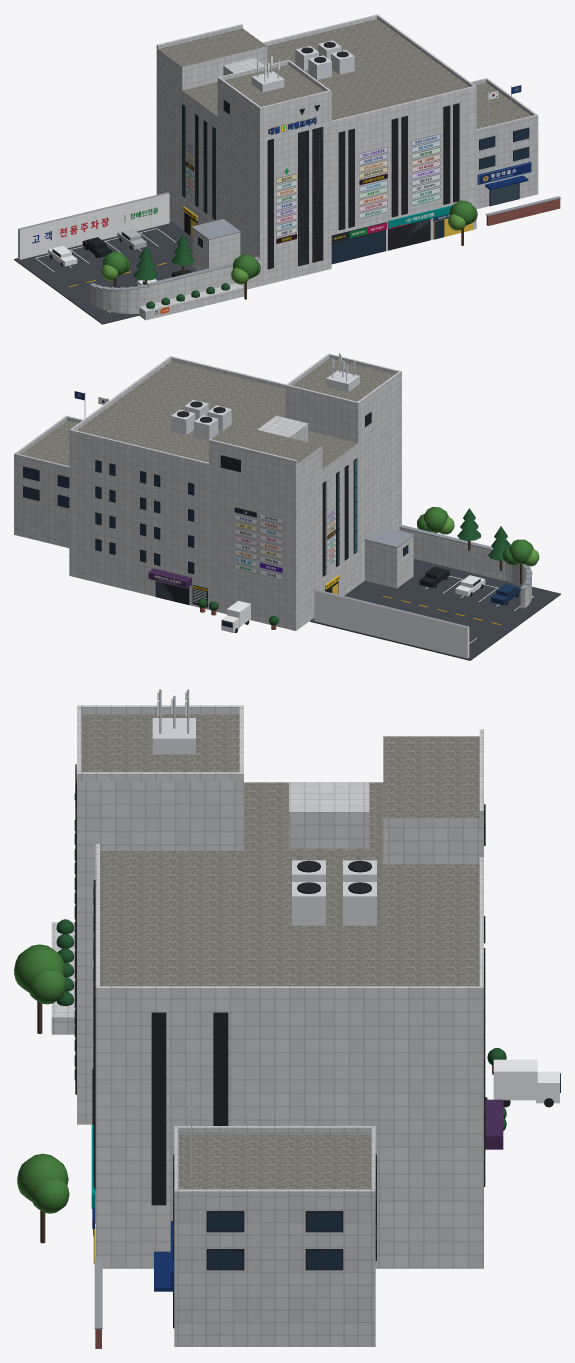
File: place_행당대림프라자.glb
3 renders of one model, top to bottom at view 1: azimuth 30°, elevation 25°; view 2: azimuth 150°, elevation 25°; view 3: azimuth 270°, elevation 25°, orthographic. The views are drawn at different scales.
Parts seen in each view (by area): view 1: MainPlaza_5F_GraniteMass, SW_DaelimLivingPlaza_TowerMass, SW_CustomerParking_Asphalt, SW_Parking_WhiteSignWall, Merged_SE_SlitFrames, NE_HaengdangPoliceBox_3F, MainPlaza_NW_HigherStory, Merged_Tower_CurtainFrames, Main_Facade_SEFront, Merged_SW_RetainWall, Merged_Main_Parapet, Merged_SW_SlitFrames (+25 smaller); view 2: MainPlaza_5F_GraniteMass, SW_DaelimLivingPlaza_TowerMass, SW_CustomerParking_Asphalt, SW_Parking_WhiteSignWall, NE_HaengdangPoliceBox_3F, MainPlaza_NW_HigherStory, Merged_SW_RetainWall, NW_Rear_2ColSignBoard_GS25_Hanatour, Merged_Main_Parapet, Merged_SW_ParkingAnnex, Merged_SW_SlitFrames, Merged_Roof_Coolers (+20 smaller); view 3: MainPlaza_5F_GraniteMass, NE_HaengdangPoliceBox_3F, SW_DaelimLivingPlaza_TowerMass, MainPlaza_NW_HigherStory, Merged_Roof_MechBox, Merged_Main_Parapet, Merged_NE_SlitFrames, Merged_Trees_Leaves, Merged_Pol_Parapet, Merged_Roof_Coolers, Merged_Tower_Parapet, Merged_Pol_WinGlass (+9 smaller).
Boxes of the visible parts, x1,y1,x2,y2 form: MainPlaza_5F_GraniteMass: [156, 19, 476, 250]; SW_DaelimLivingPlaza_TowerMass: [217, 64, 331, 286]; SW_CustomerParking_Asphalt: [14, 221, 197, 324]; SW_Parking_WhiteSignWall: [18, 192, 169, 259]; Merged_SE_SlitFrames: [338, 103, 459, 230]; NE_HaengdangPoliceBox_3F: [475, 83, 538, 208]; MainPlaza_NW_HigherStory: [156, 28, 267, 90]; Merged_Tower_CurtainFrames: [267, 127, 323, 269]; Main_Facade_SEFront: [331, 134, 440, 242]; Merged_SW_RetainWall: [90, 259, 259, 313]; Merged_Main_Parapet: [156, 14, 476, 125]; Merged_SW_SlitFrames: [182, 104, 215, 219]; MainPlaza_5F_GraniteMass: [69, 361, 358, 630]; SW_DaelimLivingPlaza_TowerMass: [285, 358, 401, 585]; SW_CustomerParking_Asphalt: [310, 559, 560, 660]; SW_Parking_WhiteSignWall: [314, 589, 469, 658]; NE_HaengdangPoliceBox_3F: [14, 420, 77, 547]; MainPlaza_NW_HigherStory: [209, 424, 322, 488]; Merged_SW_RetainWall: [399, 528, 531, 608]; NW_Rear_2ColSignBoard_GS25_Hanatour: [234, 507, 282, 579]; Merged_Main_Parapet: [69, 356, 296, 467]; Merged_SW_ParkingAnnex: [365, 536, 413, 588]; Merged_SW_SlitFrames: [322, 458, 357, 576]; Merged_Roof_Coolers: [171, 400, 231, 440]; MainPlaza_5F_GraniteMass: [95, 782, 483, 1268]; NE_HaengdangPoliceBox_3F: [174, 1134, 375, 1346]; SW_DaelimLivingPlaza_TowerMass: [77, 714, 243, 1124]; MainPlaza_NW_HigherStory: [383, 736, 483, 864]; Merged_Roof_MechBox: [289, 782, 369, 848]; Merged_Main_Parapet: [95, 729, 483, 994]; Merged_NE_SlitFrames: [151, 1012, 228, 1205]; Merged_Trees_Leaves: [14, 944, 69, 1213]; Merged_Pol_Parapet: [174, 1126, 375, 1198]; Merged_Roof_Coolers: [292, 860, 376, 925]; Merged_Tower_Parapet: [77, 705, 243, 780]; Merged_Pol_WinGlass: [173, 1156, 342, 1269].
Bounding box in the file's own units: 67.88 × 28.44 × 35.35.
46 materials, 23 textured.
